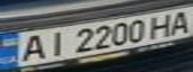0: (127, 16, 151, 43), (109, 20, 133, 47)
2: (69, 25, 97, 55), (90, 21, 115, 52)
A: (12, 32, 51, 63), (166, 8, 193, 36)
H: (145, 11, 178, 38)
I: (39, 29, 72, 58)
